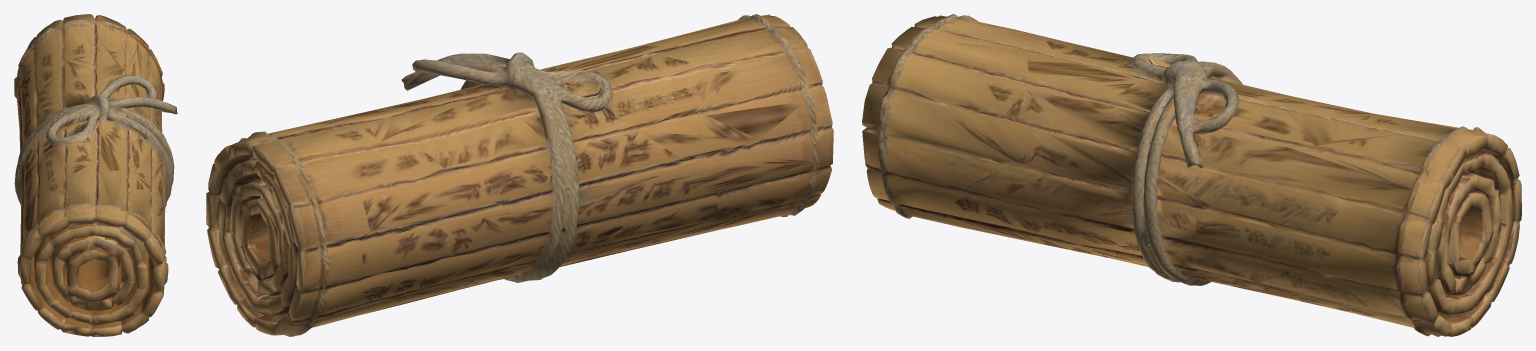
The model's file is Artifact_CP1.fbx.
The picture shows the model from 3 angles, left to right: view 1: azimuth 30°, elevation 25°; view 2: azimuth 150°, elevation 25°; view 3: azimuth 270°, elevation 25°; orthographic projection. The views are drawn at different scales.
Parts seen in each view (by area): view 1: Body_CP1; view 2: Body_CP1; view 3: Body_CP1.
Part boxes in pixels (box(x1,y1,x2,y2)): Body_CP1: box(14, 14, 177, 336); Body_CP1: box(206, 14, 833, 336); Body_CP1: box(862, 14, 1521, 336).
Bounding box in the file's own units: 0.1618 × 0.0797 × 0.22.
